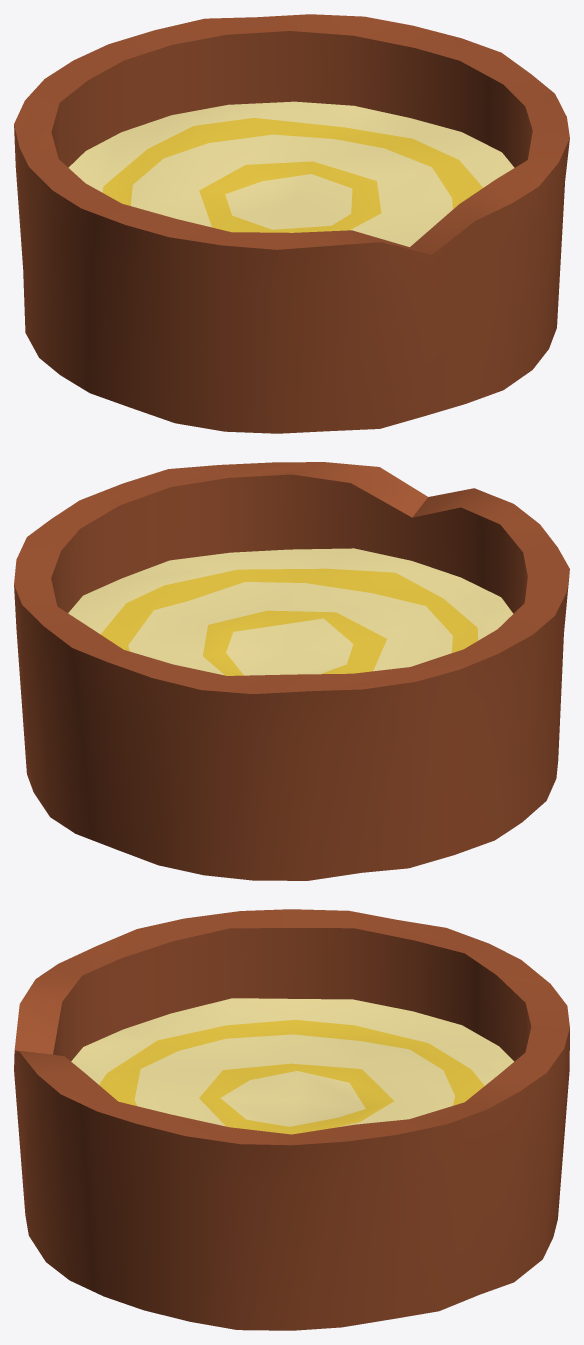
Rendered from Log.fbx.
3 renders of one model, top to bottom at view 1: azimuth 30°, elevation 25°; view 2: azimuth 150°, elevation 25°; view 3: azimuth 270°, elevation 25°, orthographic.
Visible parts, largest first — view 1: Log; view 2: Log; view 3: Log.
Boxes of the visible parts, <box> form: Log: <box>14,14,569,433</box>; Log: <box>14,462,569,880</box>; Log: <box>14,909,569,1330</box>.
Size of the model in its own units: 2.01 by 0.7726 by 2.01.
